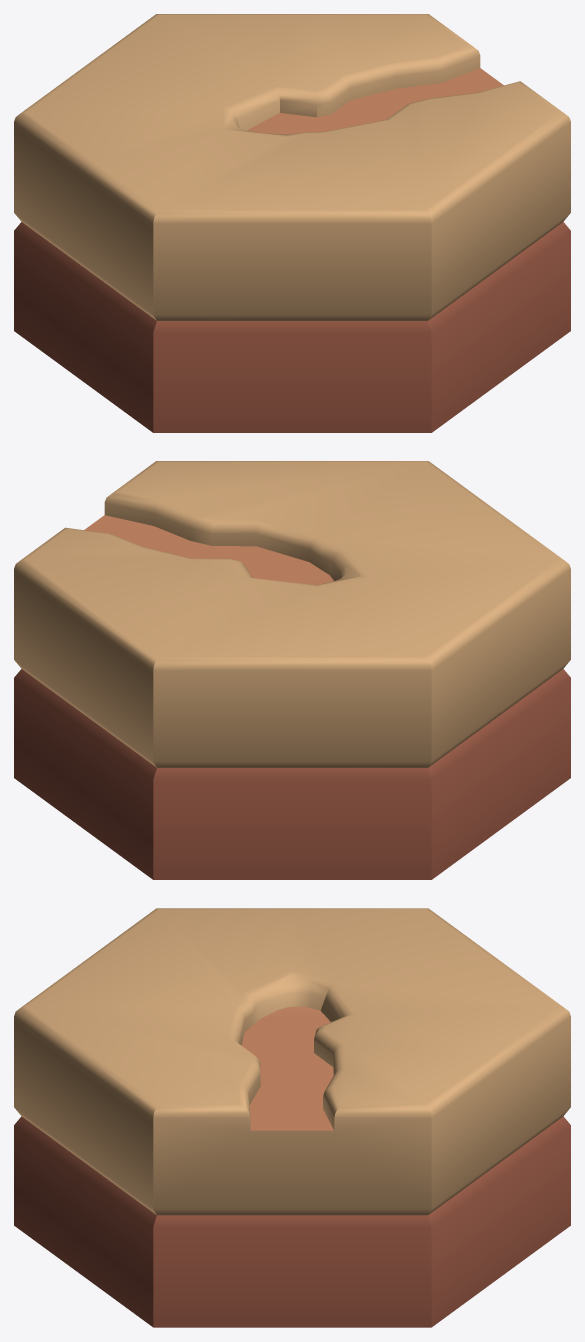
The model's file is kaykit-hex-sand-roada-detail.glb.
3 renders of one model, top to bottom at view 1: azimuth 30°, elevation 25°; view 2: azimuth 150°, elevation 25°; view 3: azimuth 270°, elevation 25°, orthographic.
Visible parts, largest first — view 1: hex_sand_roadA_detail; view 2: hex_sand_roadA_detail; view 3: hex_sand_roadA_detail.
Boxes of the visible parts, x1=… form: hex_sand_roadA_detail: x1=14, y1=14, x2=570, y2=432; hex_sand_roadA_detail: x1=14, y1=461, x2=570, y2=879; hex_sand_roadA_detail: x1=14, y1=908, x2=570, y2=1327.
Bounding box in the file's own units: 2 × 1 × 2.31.
